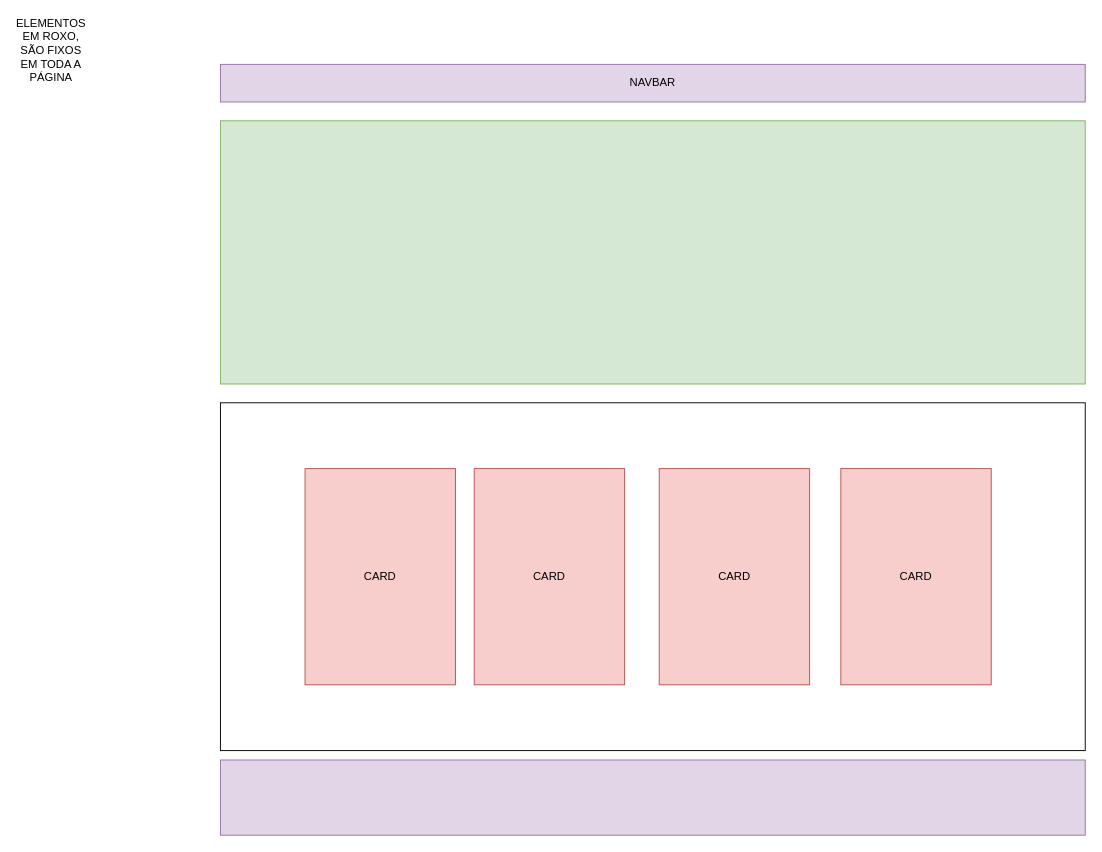
Image size: 1102x852. Some labels were removed from this diagram. Each missing label, with the box of its shape:
CARROSSEL: (219, 120, 1085, 384)
DESTAQUE: (219, 402, 1085, 751)
FOOTER: (219, 759, 1085, 835)
